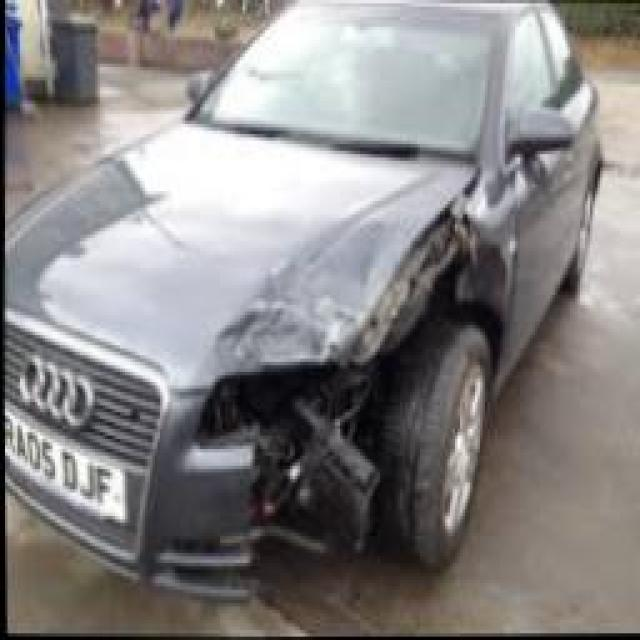Bonnet: (190, 234, 409, 378)
Bumper: (245, 416, 369, 592)
Fender: (351, 209, 460, 380)
Light: (199, 364, 363, 447)
